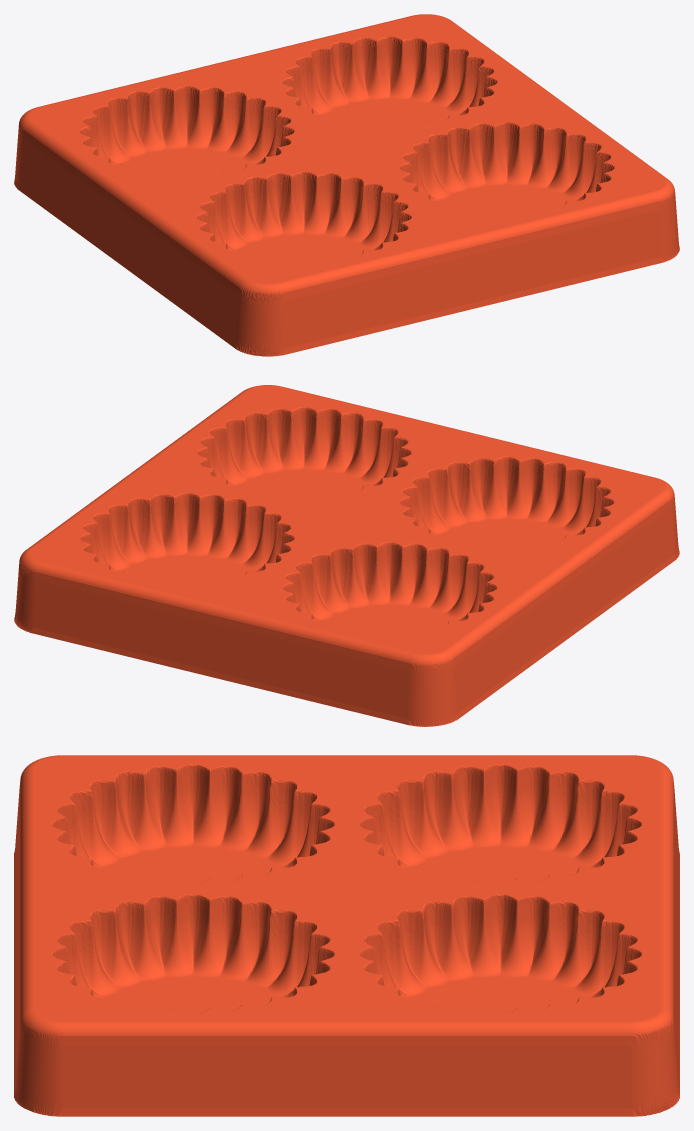
Rendered from mold.glb.
3 renders of one model, top to bottom at view 1: azimuth 30°, elevation 25°; view 2: azimuth 150°, elevation 25°; view 3: azimuth 270°, elevation 25°, orthographic. The views are drawn at different scales.
Parts seen in each view (by area): view 1: geometry_0; view 2: geometry_0; view 3: geometry_0.
Part boxes in pixels (x1,y1,x2,y2): geometry_0: (14, 14, 679, 356); geometry_0: (14, 385, 679, 726); geometry_0: (14, 755, 679, 1116).
Bounding box in the file's own units: 0.1211 × 0.0175 × 0.1211.
